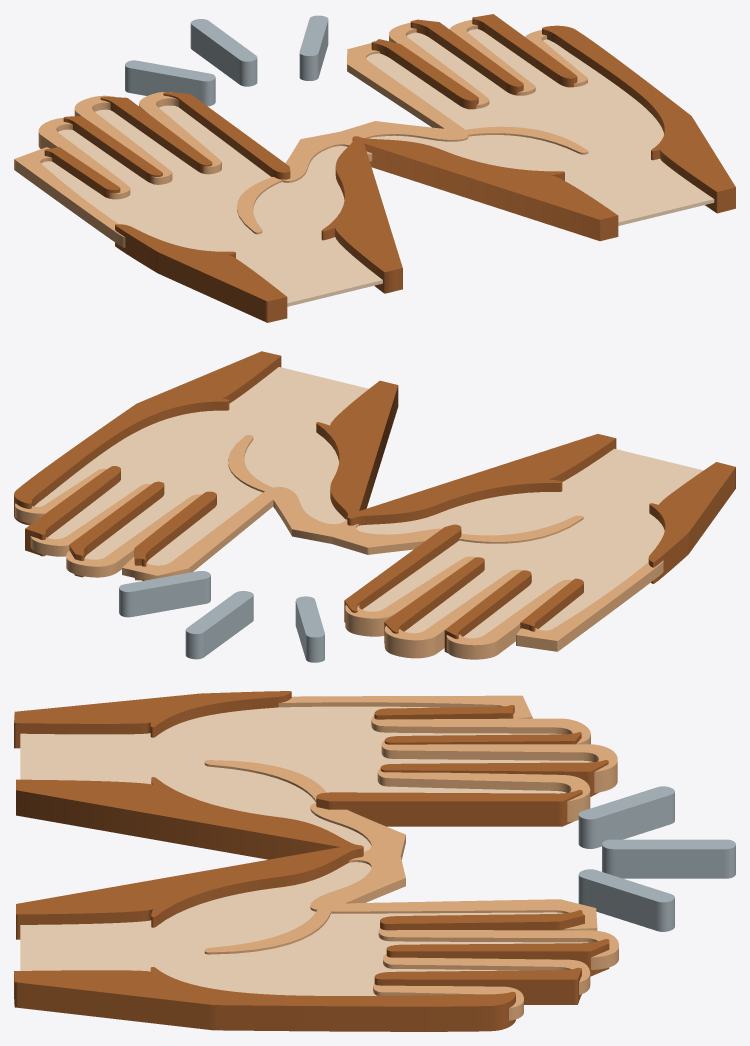
The model's file is emoji_u1f64c_1f3fb.glb.
3 views of the same model, one above another, from view 1: azimuth 30°, elevation 25°; view 2: azimuth 150°, elevation 25°; view 3: azimuth 270°, elevation 25° (orthographic). The views are drawn at different scales.
Visible parts, largest first — view 1: emoji_u1f64c_1f3fb; view 2: emoji_u1f64c_1f3fb; view 3: emoji_u1f64c_1f3fb.
Part boxes in pixels (x1=…): emoji_u1f64c_1f3fb: x1=14, y1=14, x2=735, y2=322; emoji_u1f64c_1f3fb: x1=14, y1=351, x2=735, y2=662; emoji_u1f64c_1f3fb: x1=14, y1=691, x2=735, y2=1031.
Bounding box in the file's own units: 0.0322 × 0.0014 × 0.031.
